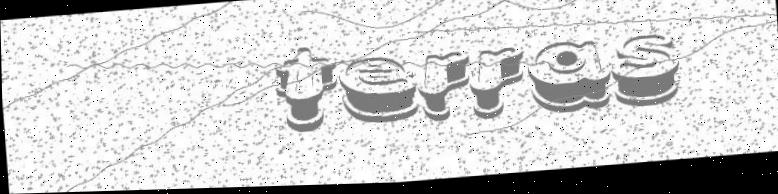a: (526, 40, 611, 120)
e: (337, 52, 420, 126)
r: (415, 49, 473, 125), (470, 48, 528, 123)
s: (610, 32, 685, 113)
t: (268, 44, 344, 135)
